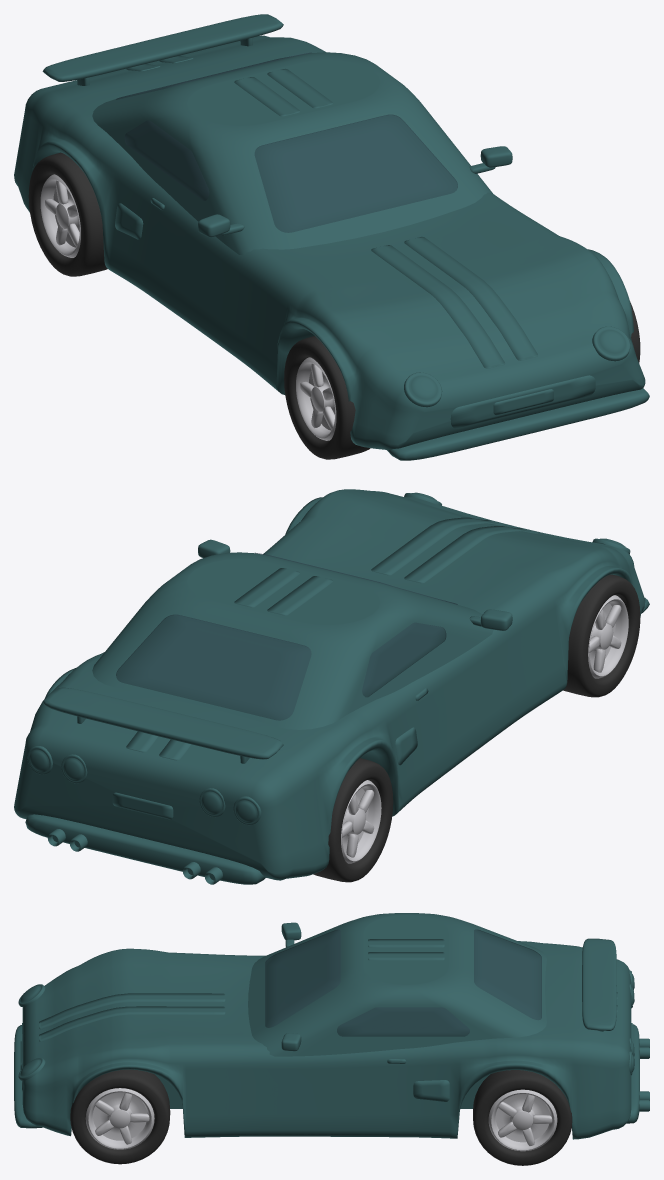
File: car_gt20.glb
3 views of the same model, one above another, from view 1: azimuth 30°, elevation 25°; view 2: azimuth 150°, elevation 25°; view 3: azimuth 270°, elevation 25° (orthographic). The views are drawn at different scales.
Parts seen in each view (by area): view 1: sports-car_body, sports-car_windows, sports-car_wheel_rr, sports-car_wheel_fr; view 2: sports-car_body, sports-car_windows, sports-car_wheel_fr, sports-car_wheel_rr; view 3: sports-car_body, sports-car_windows, sports-car_wheel_rl, sports-car_wheel_fl.
Boxes of the visible parts, box(x1,y1,x2,y2) form: sports-car_body: box(14, 14, 649, 460); sports-car_windows: box(116, 52, 457, 232); sports-car_wheel_rr: box(28, 152, 107, 276); sports-car_wheel_fr: box(284, 336, 370, 459); sports-car_body: box(14, 489, 649, 884); sports-car_windows: box(116, 552, 457, 720); sports-car_wheel_fr: box(563, 574, 640, 697); sports-car_wheel_rr: box(313, 758, 393, 882); sports-car_body: box(14, 913, 649, 1139); sports-car_windows: box(265, 929, 541, 1036); sports-car_wheel_rl: box(473, 1070, 572, 1165); sports-car_wheel_fl: box(70, 1069, 170, 1164).
Size of the model in its own units: 1.89 by 1.16 by 4.2.
